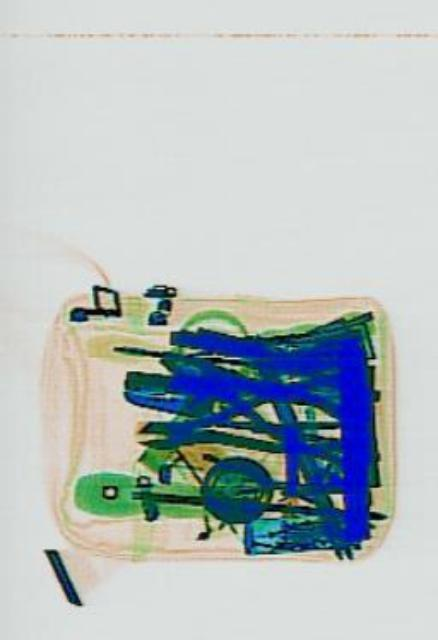Pliers: (153, 323, 342, 463), (131, 376, 344, 470)
